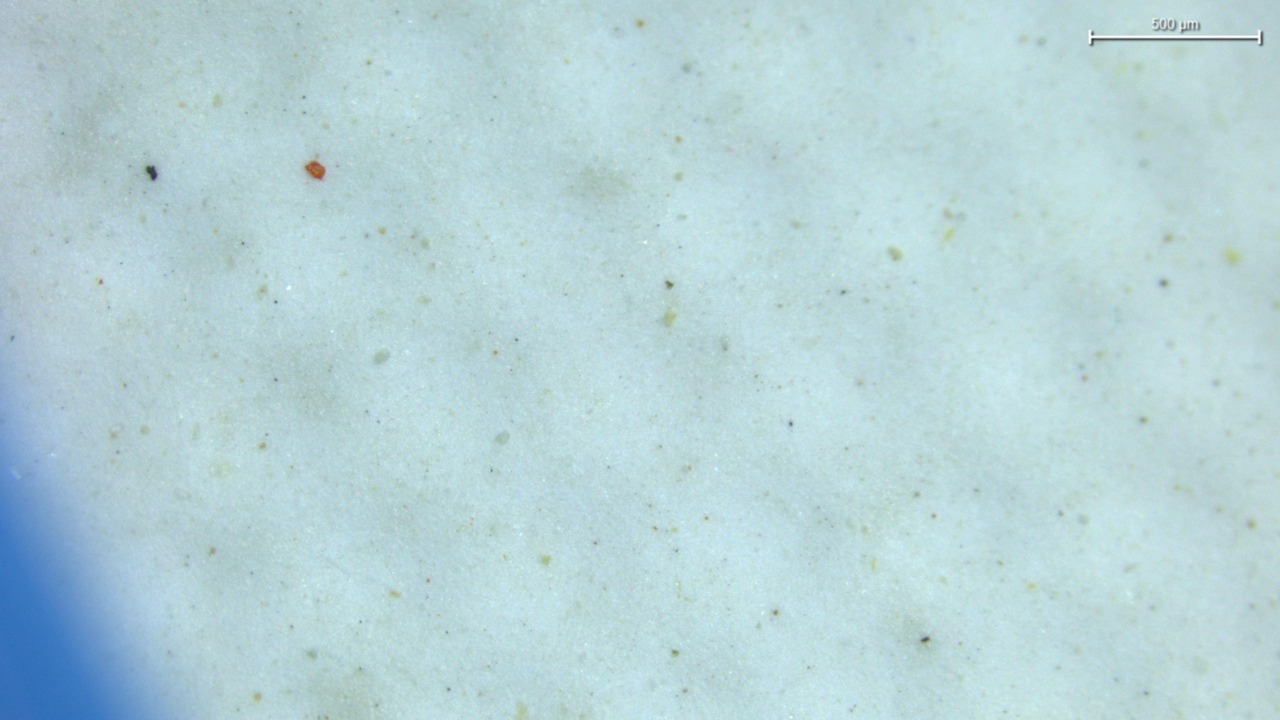microplastic_fragment: (305, 161, 325, 179)
